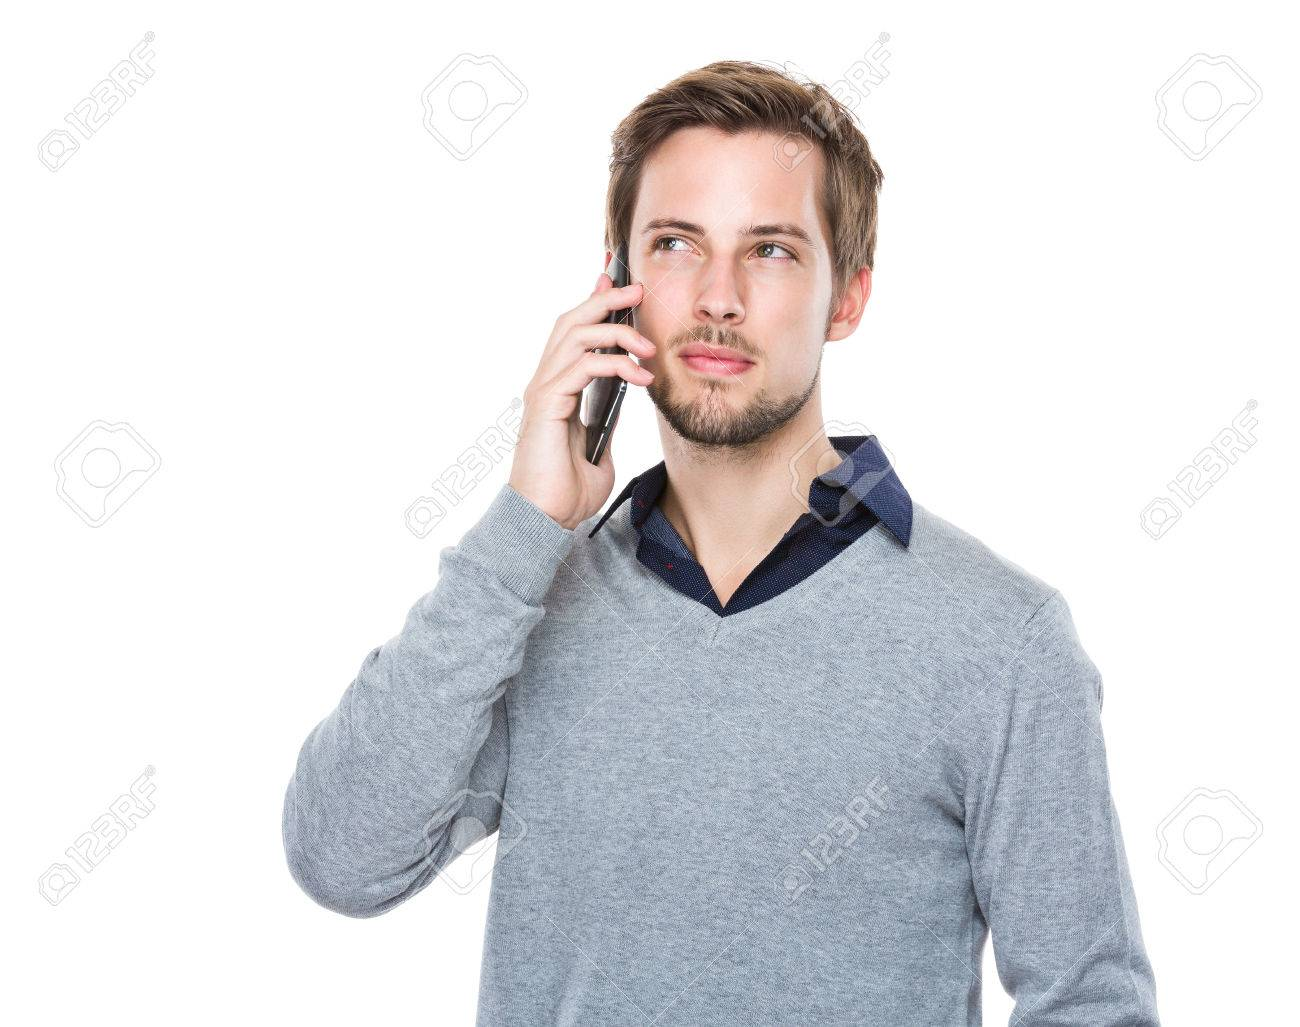phone: (510, 263, 664, 456)
talk: (513, 199, 827, 524)
